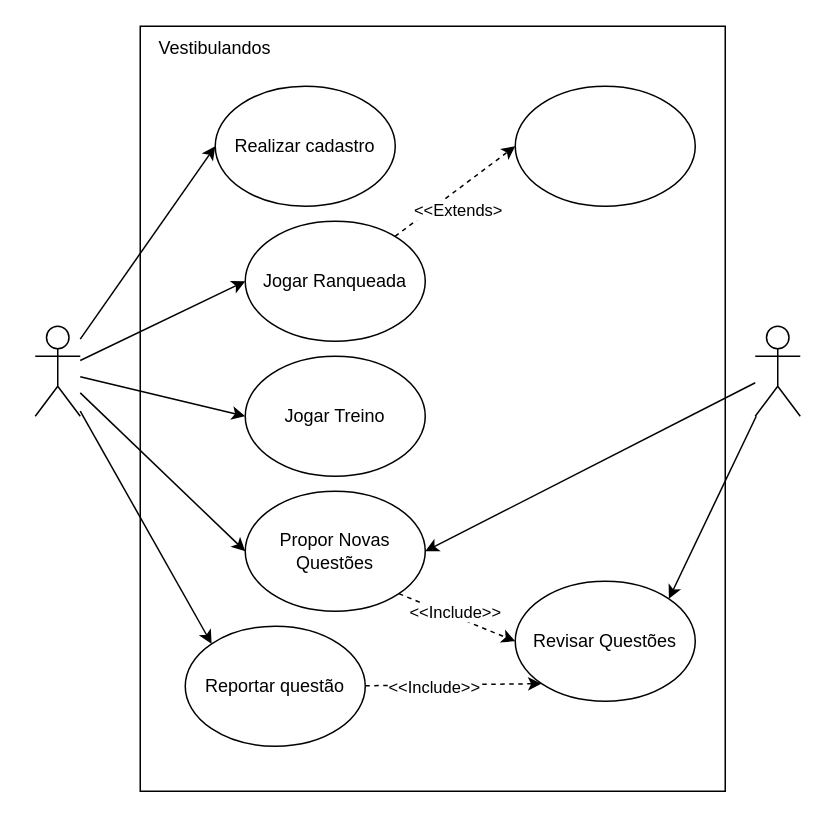
This 834x818 diagram has some shape labels left out. Here are the shapes that lost their labels. From the top down, the centre of each, then its label:
(604,145): Visualizar Ranking
(57,370): Jogador
(777,370): Monitor
